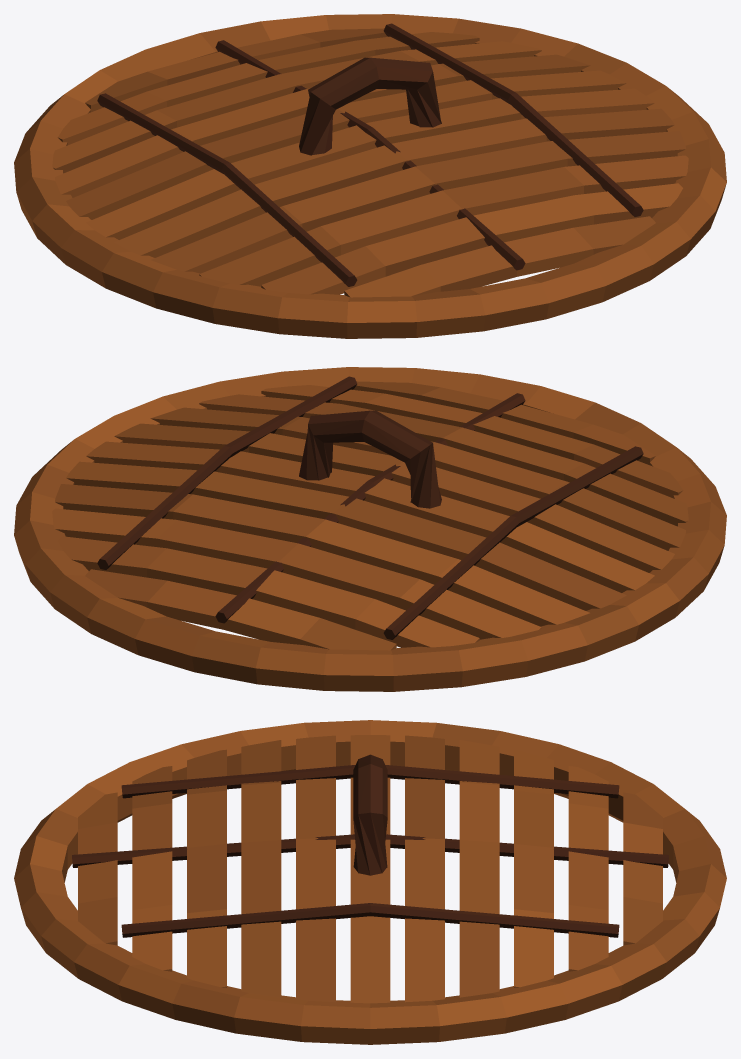
The model's file is ED_15_Woven_Steamer_Lid.fbx.
3 views of the same model, one above another, from view 1: azimuth 30°, elevation 25°; view 2: azimuth 150°, elevation 25°; view 3: azimuth 270°, elevation 25° (orthographic).
Parts seen in each view (by area): view 1: ED_15_Woven_Steamer_Lid; view 2: ED_15_Woven_Steamer_Lid; view 3: ED_15_Woven_Steamer_Lid.
Boxes of the visible parts, bbox=[...] form: ED_15_Woven_Steamer_Lid: bbox=[14, 14, 726, 338]; ED_15_Woven_Steamer_Lid: bbox=[14, 367, 726, 691]; ED_15_Woven_Steamer_Lid: bbox=[14, 720, 726, 1044].
Bounding box in the file's own units: 2.68 × 0.575 × 2.68.
